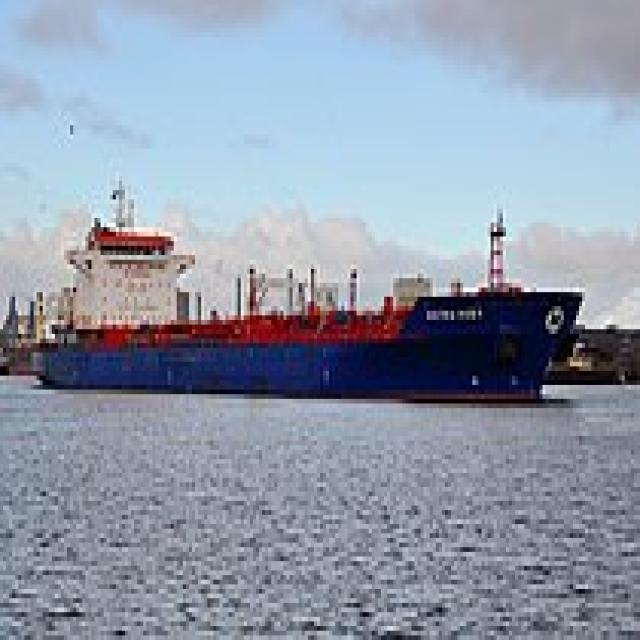Tanker: (24, 172, 582, 398)
